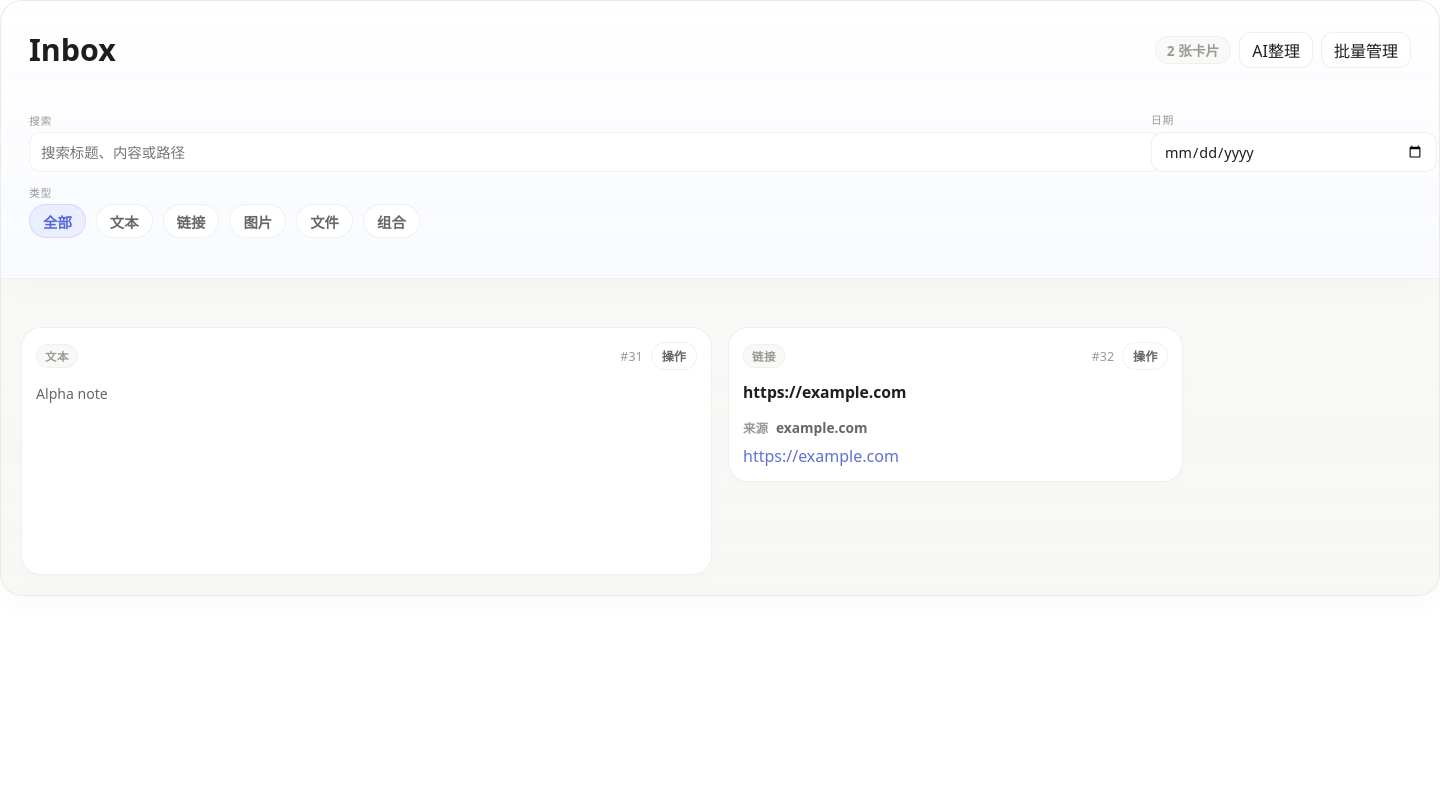
Test: MainCanvas › starts selection mode from batch management and tracks selected cards
This screenshot has width=1452, height=810.
Click the button "批量管理" at (1366, 50), box top-left (1321, 32), bottom-right (1411, 68)
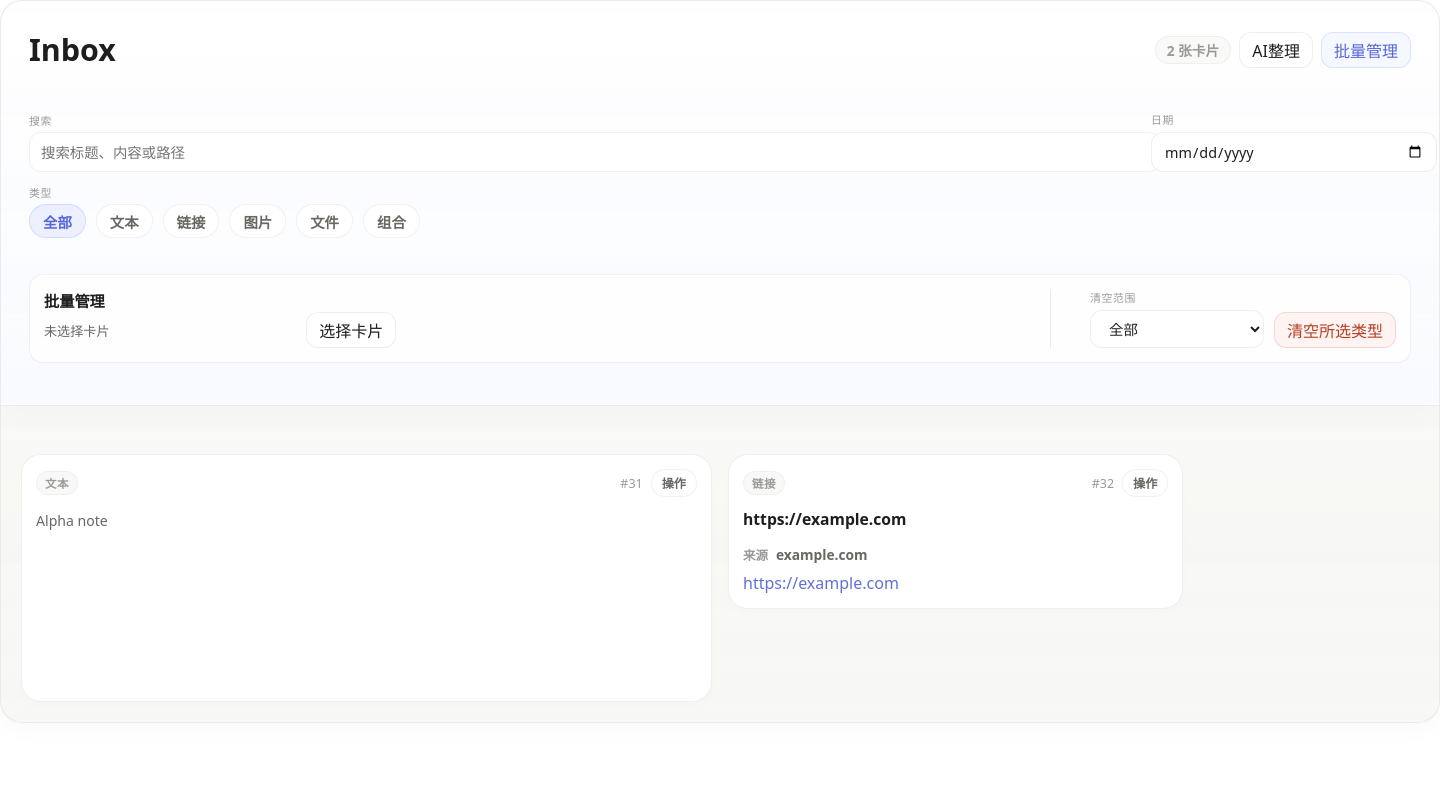
Click the button "选择卡片" at (351, 330), box top-left (306, 312), bottom-right (396, 348)
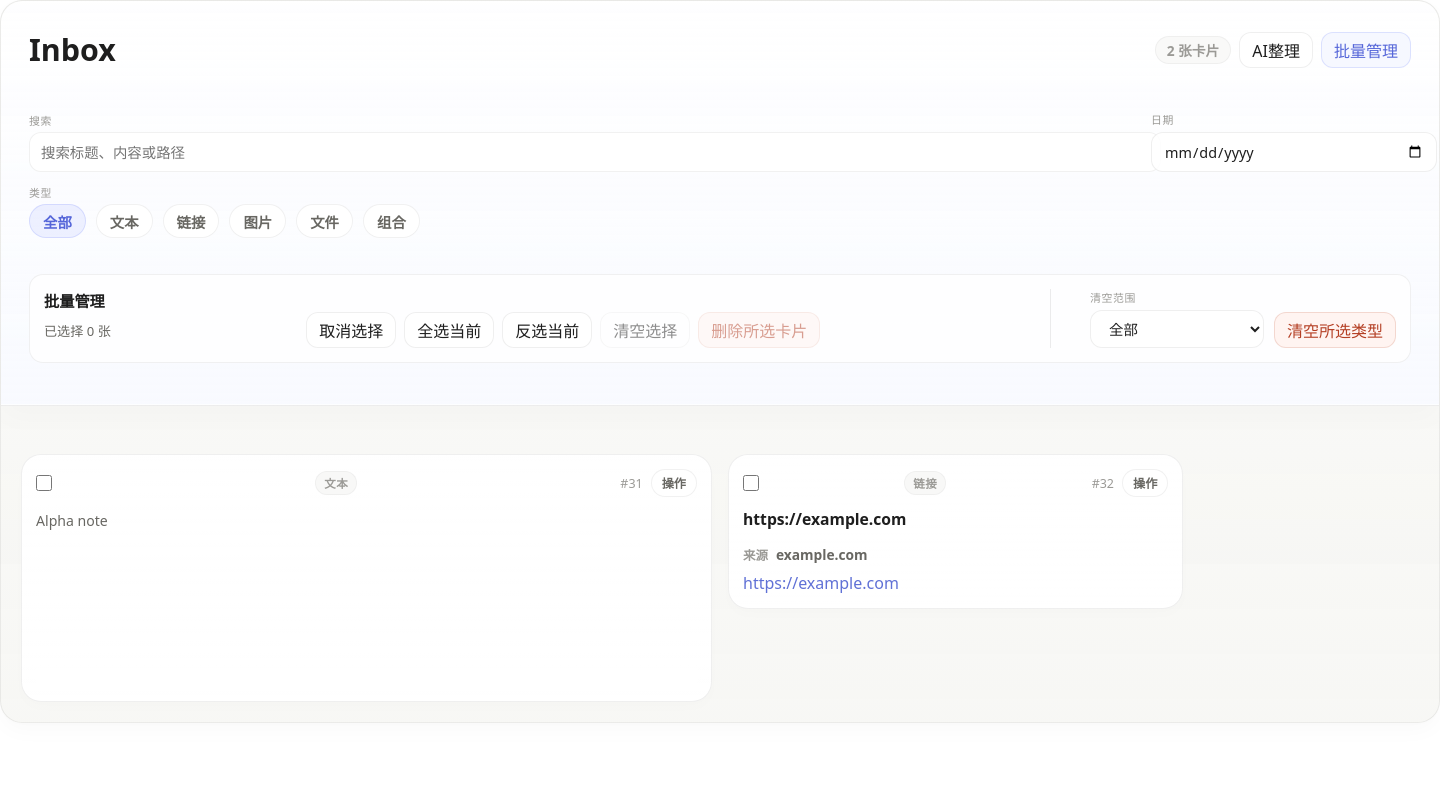
Expected: the text "已选择 0 张" is shown, top-left (44, 322), bottom-right (111, 340)
Expected: the checkbox named "选择卡片 Alpha note" is shown
Click the checkbox named "选择卡片 Alpha note" at (44, 483), box top-left (36, 475), bottom-right (52, 491)
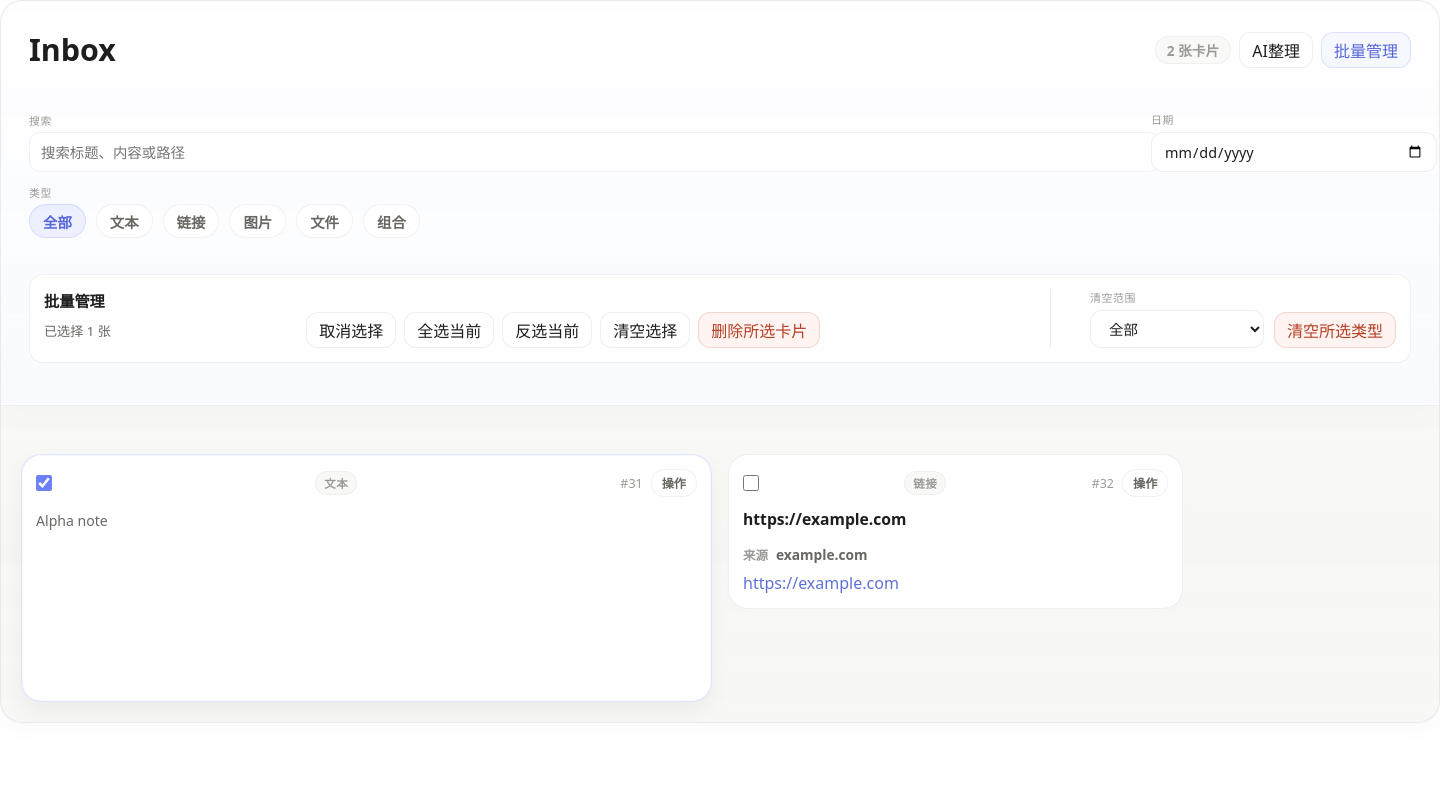
Expected: the text "已选择 1 张" is shown, top-left (44, 322), bottom-right (111, 340)
Click the button "取消选择" at (351, 330), box top-left (306, 312), bottom-right (396, 348)
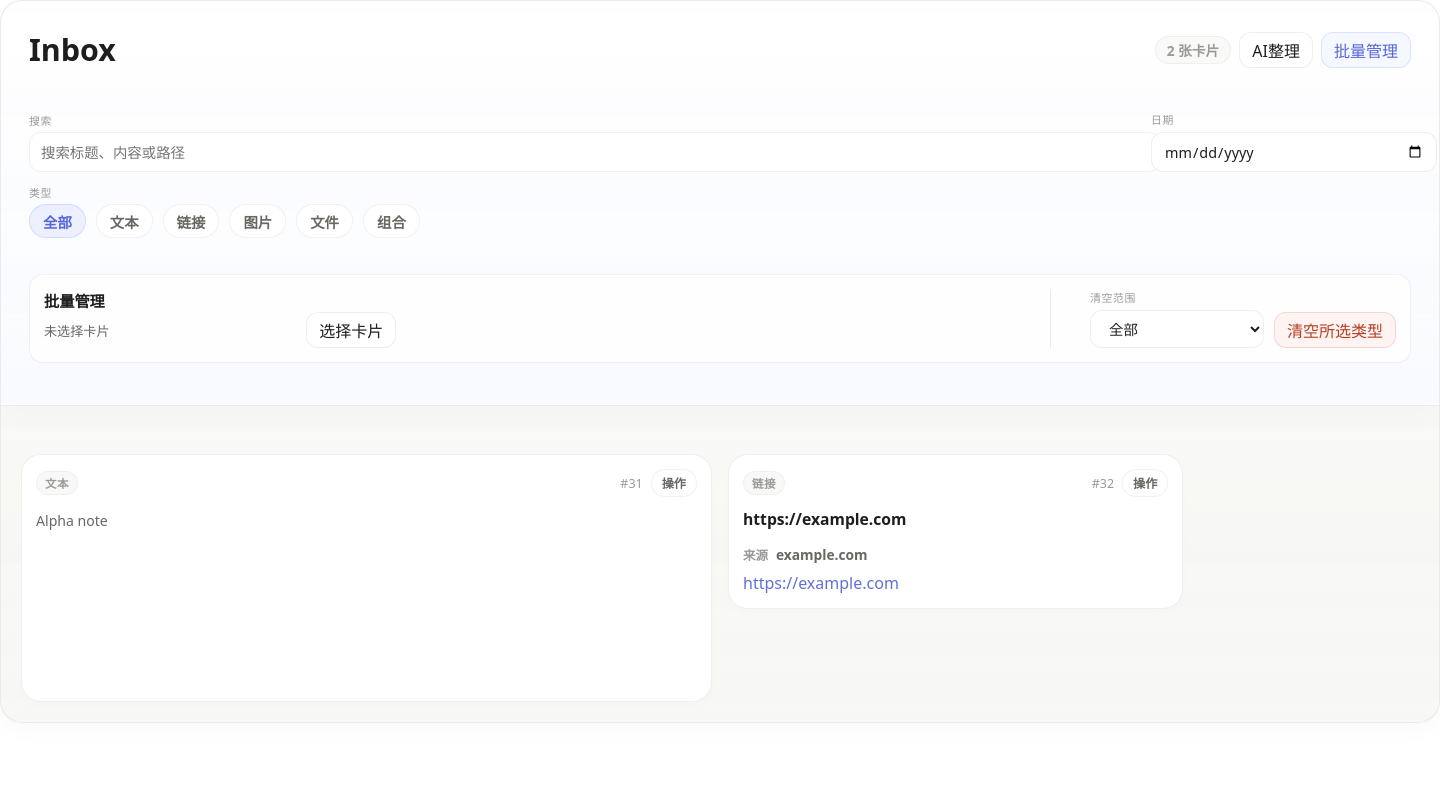
Expected: the text "已选择 1 张" is gone
